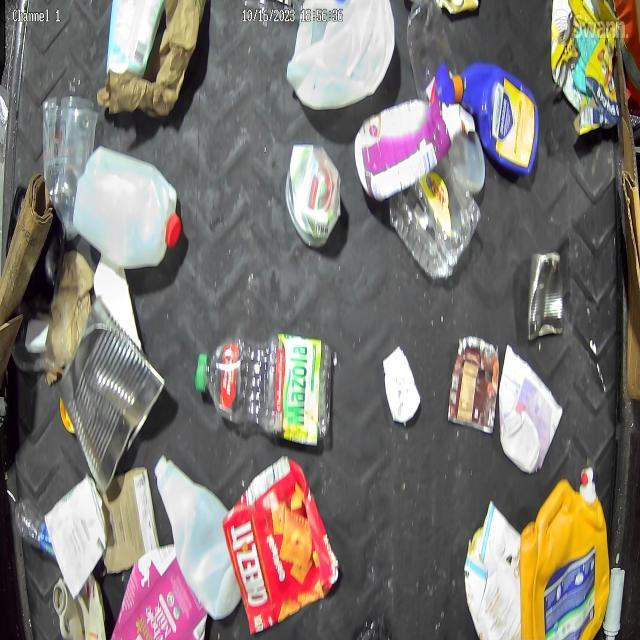can: (61, 298, 165, 494), (286, 144, 342, 248), (448, 335, 500, 435), (528, 248, 564, 342)
milk_jug: (153, 454, 242, 622), (74, 144, 182, 270), (287, 0, 395, 110), (464, 500, 522, 640), (52, 573, 106, 640)
non_white_jug: (522, 467, 610, 640), (354, 89, 474, 200), (436, 59, 538, 175), (110, 542, 208, 640)
plastic_bottle: (196, 335, 333, 446), (14, 498, 57, 559)
